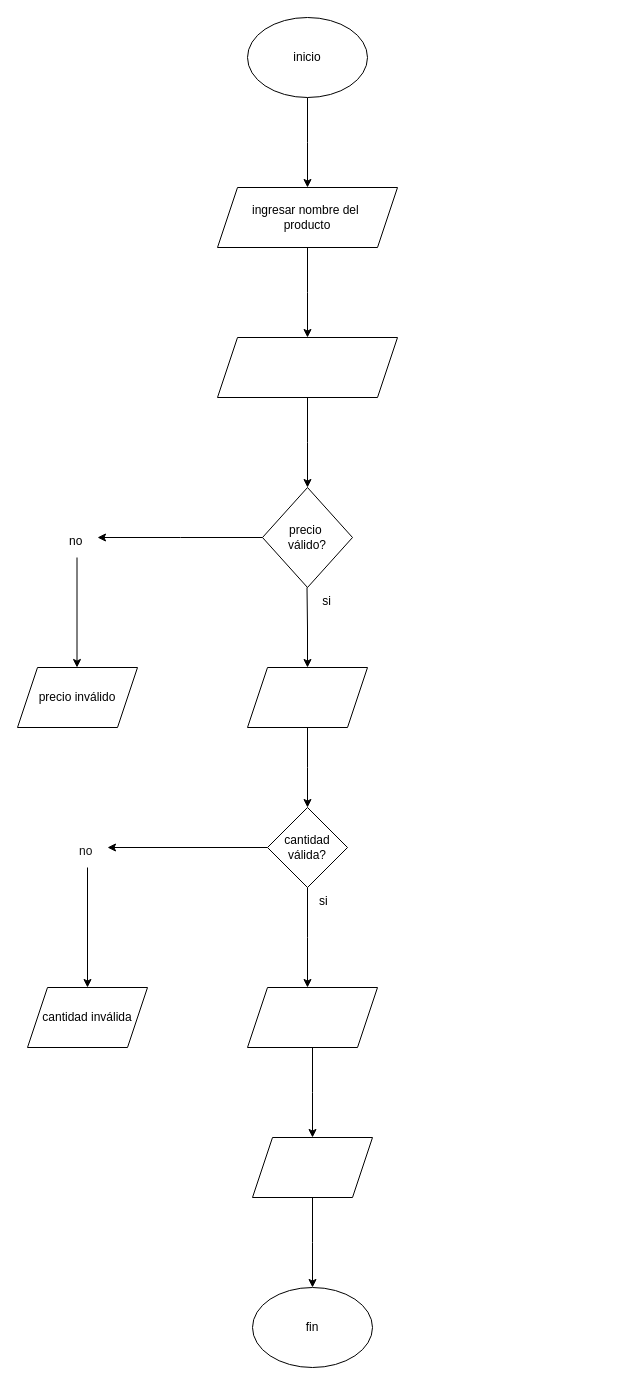
This 625x1385 diagram has some shape labels left out. The centre of each missing label's shape, as x and y in pixels:
"calcular costo total" belongs at (312,1017).
"ingresar cantidad del producto" belongs at (307,697).
"ingresar precio del producto" belongs at (307,367).
"mostrar resultado" belongs at (312,1167).
